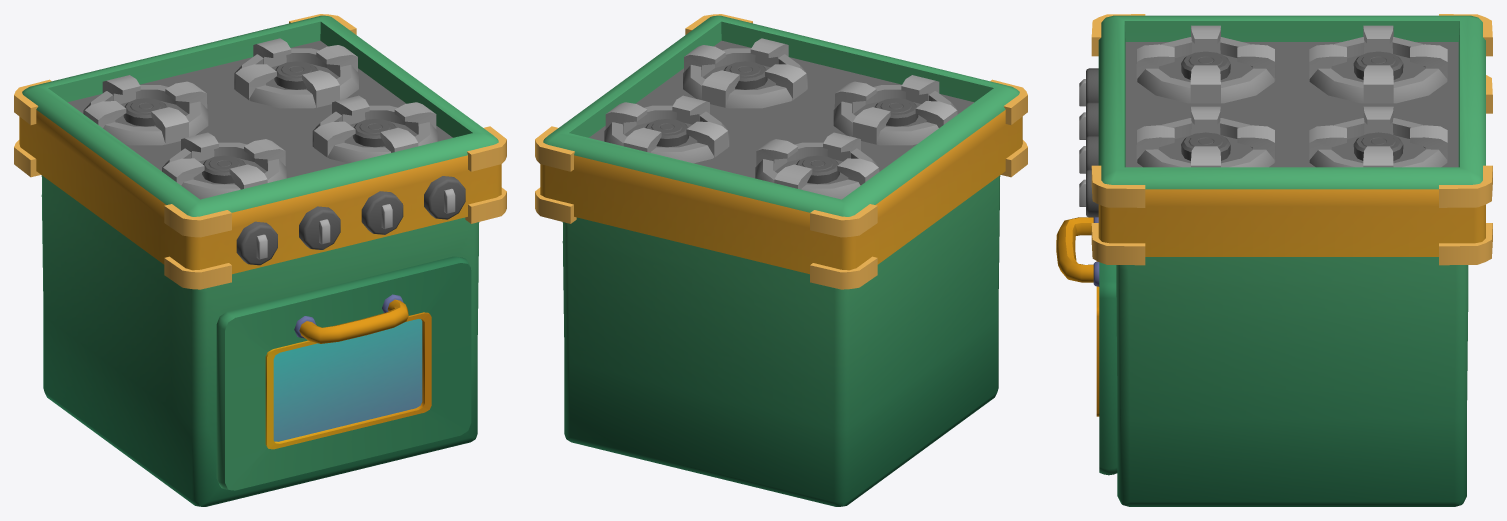
File: Furnace.fbx
3 renders of one model, left to right at view 1: azimuth 30°, elevation 25°; view 2: azimuth 150°, elevation 25°; view 3: azimuth 270°, elevation 25°, orthographic. The views are drawn at different scales.
Visible parts, largest first — view 1: Furnace.001, FurnaceDoor.001; view 2: Furnace.001; view 3: Furnace.001, FurnaceDoor.001.
Boxes of the visible parts, left/top/right/bottom form: Furnace.001: left=14, top=14, right=506, bottom=506; FurnaceDoor.001: left=216, top=256, right=471, bottom=490; Furnace.001: left=535, top=14, right=1027, bottom=506; Furnace.001: left=1079, top=14, right=1492, bottom=506; FurnaceDoor.001: left=1056, top=217, right=1117, bottom=475.
Bounding box in the file's own units: 118 × 109 × 125.
